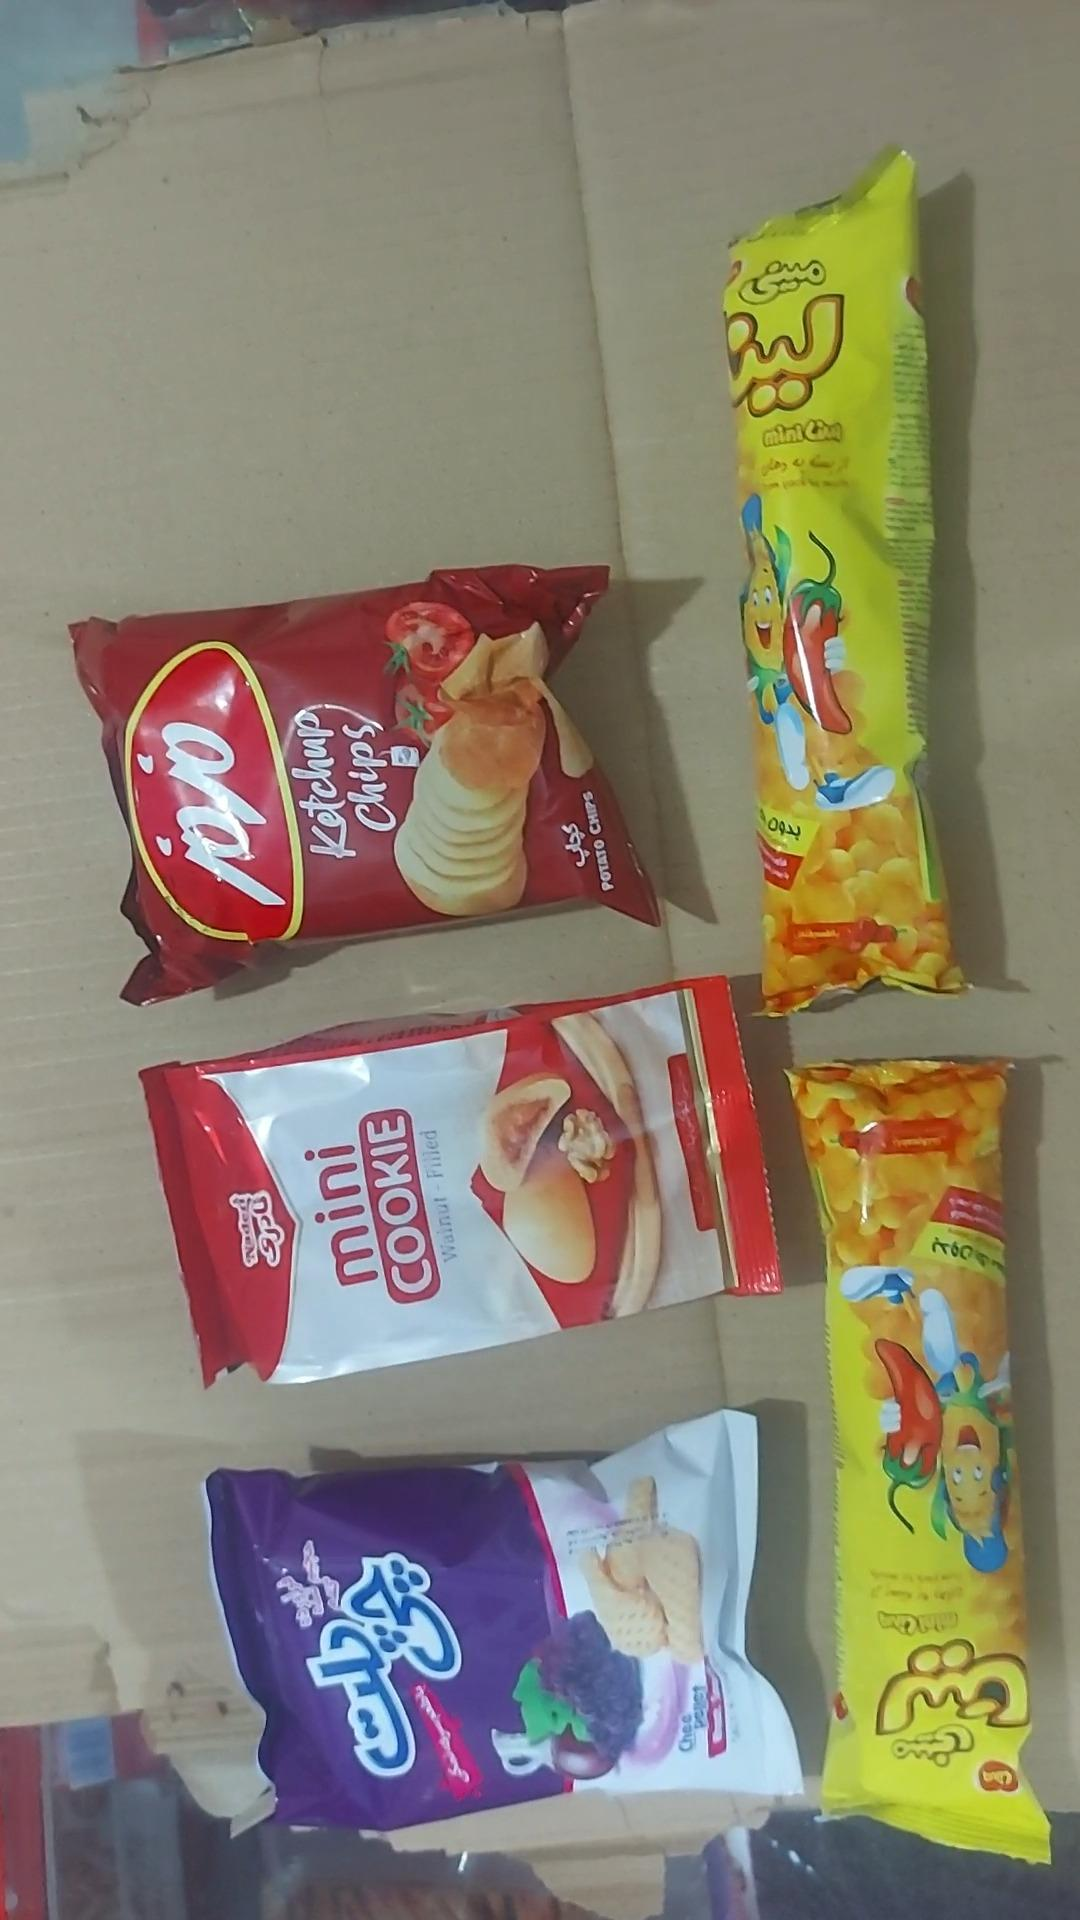Chee pellet vinegar: (202, 1410, 804, 1836)
Maz Maz ketchup chips: (69, 564, 663, 1009)
Mini Lina: (785, 1058, 1052, 1869), (719, 152, 967, 1025)
Naderi mini cookie: (137, 977, 785, 1393)
